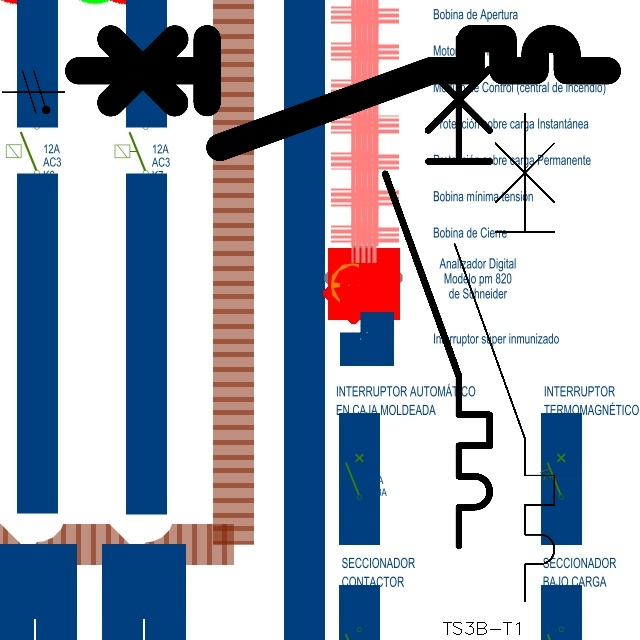interruptor_termomagnetico: (64, 25, 620, 161), (372, 25, 503, 559), (442, 101, 567, 614)
